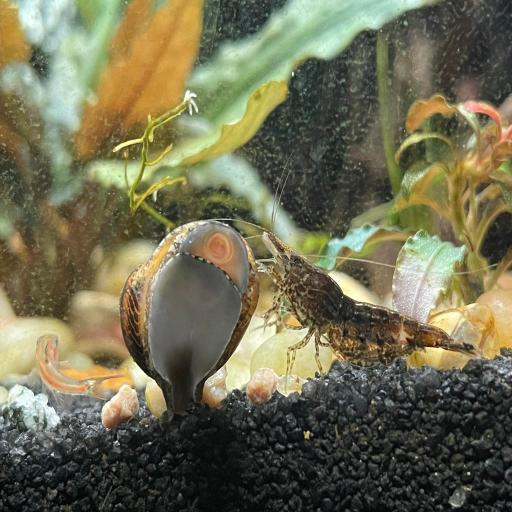Shrimp: (252, 156, 482, 396)
Snail: (116, 222, 266, 423)
